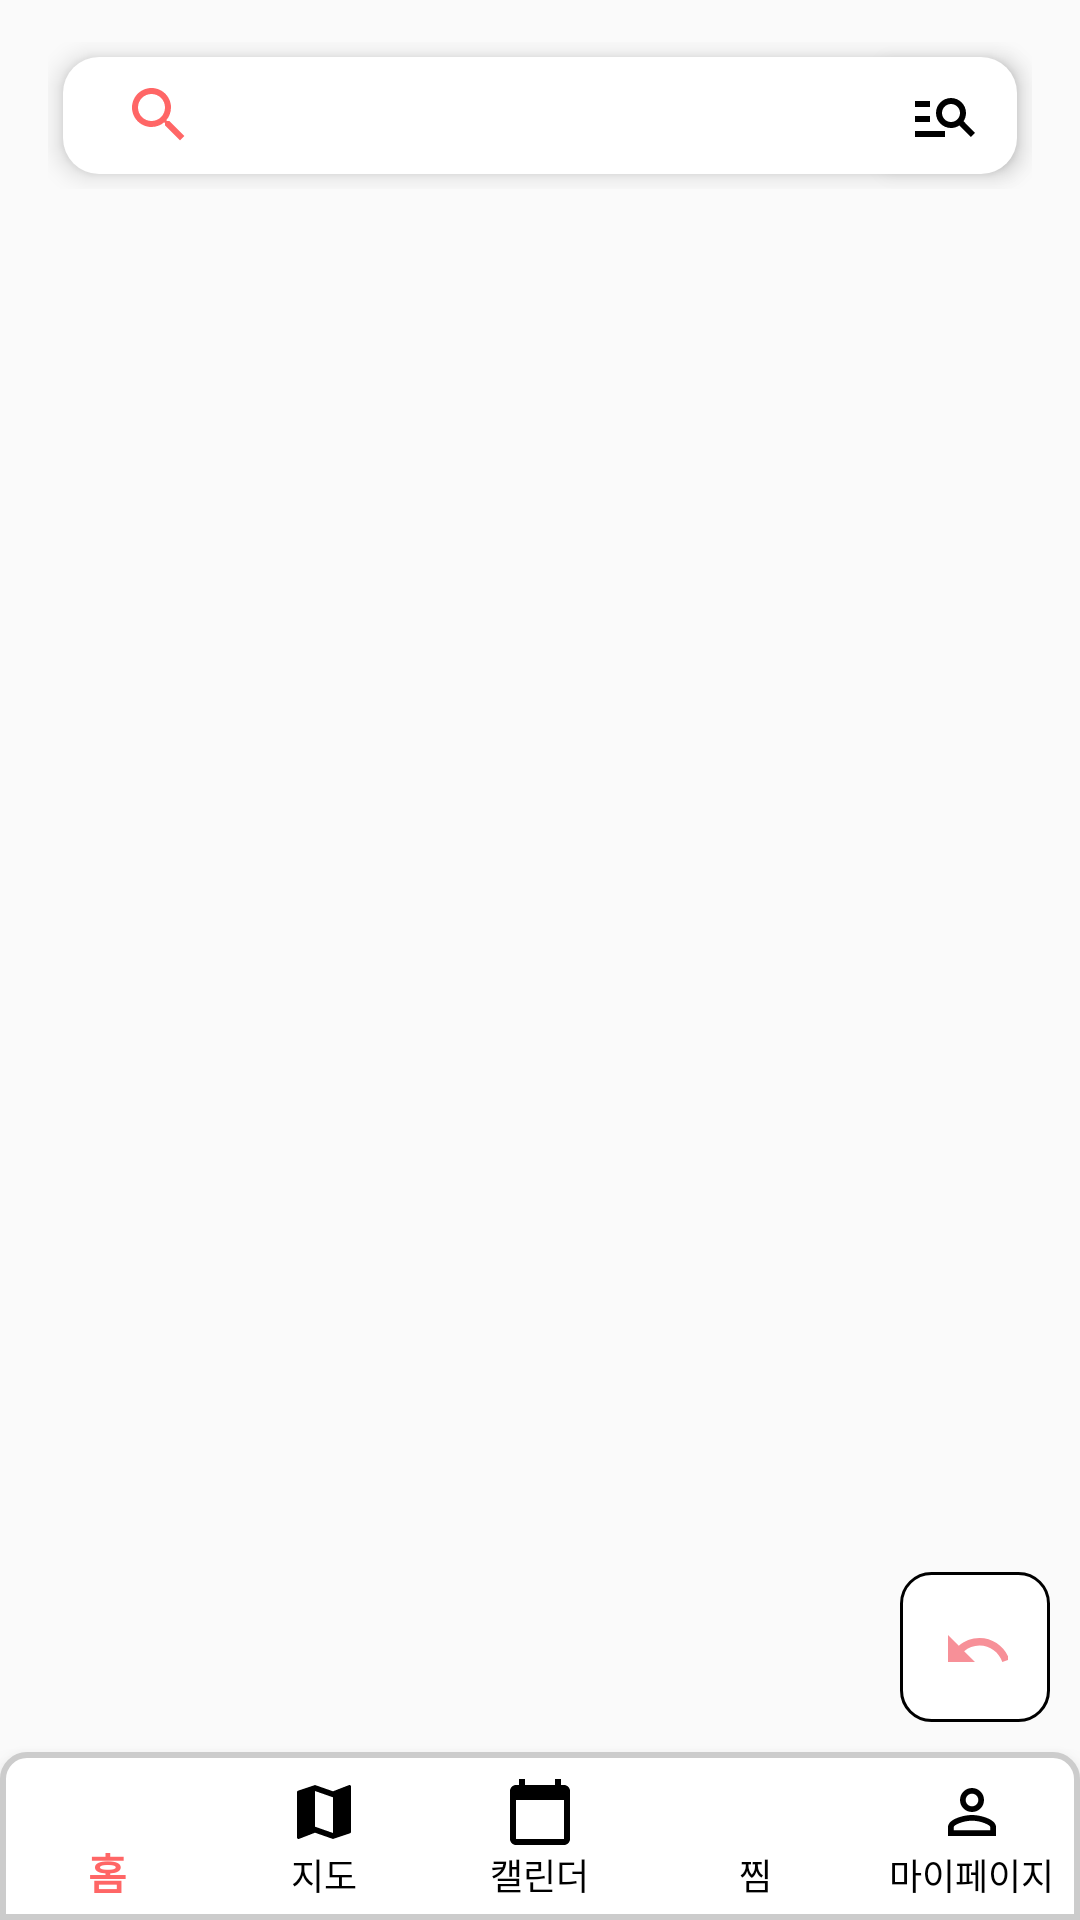

Icons on this 1080w x 1920h Android screen, each with the point to tap as point (x, y):
search option: point (945, 116)
undo: point (975, 1647)
